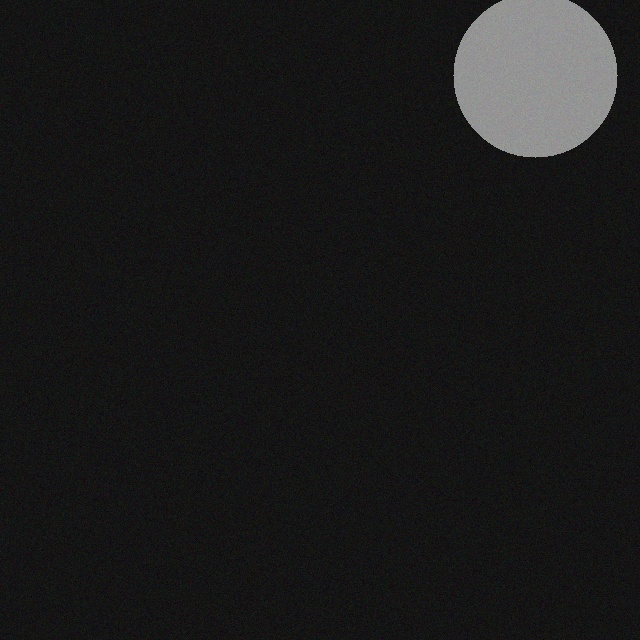circle: (446, 2, 610, 166)
